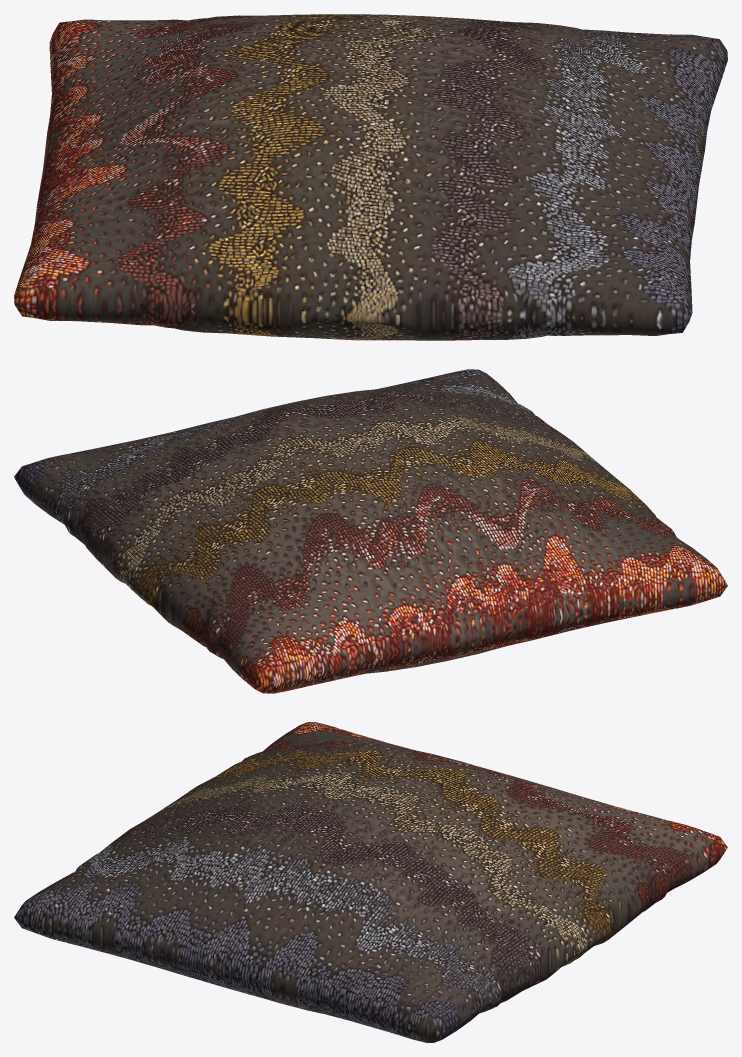
The model's file is pillow_2.fbx.
3 renders of one model, top to bottom at view 1: azimuth 30°, elevation 25°; view 2: azimuth 150°, elevation 25°; view 3: azimuth 270°, elevation 25°, orthographic. The views are drawn at different scales.
Visible parts, largest first — view 1: group_4; view 2: group_4; view 3: group_4.
Boxes of the visible parts, bbox=[...] form: group_4: bbox=[14, 14, 727, 340]; group_4: bbox=[14, 369, 727, 693]; group_4: bbox=[14, 722, 727, 1042].
Size of the model in its own units: 56.48 by 15.6 by 55.89.
Materials: 1 (1 with a texture image).
